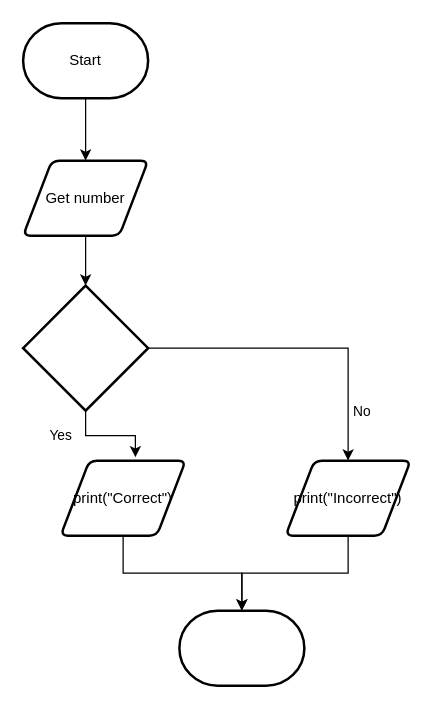
Image size: 433x708. Some labels were removed from this diagram. The shapes that lost their labels are listed below. From the top down, each one's centre as x and y in pixels, then its label:
At point 85,347: "if number = 5".
At point 241,647: "Stop".
